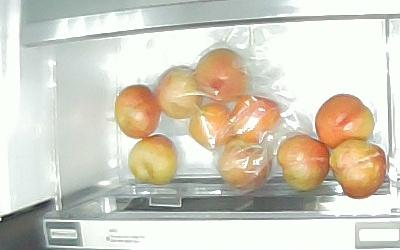prune: (329, 138, 387, 200), (315, 94, 376, 150), (276, 135, 329, 193), (129, 135, 178, 185), (116, 85, 160, 138)
prune_vinyl: (195, 49, 251, 104), (217, 139, 271, 191), (154, 66, 203, 118), (229, 96, 280, 145), (190, 104, 235, 150)
